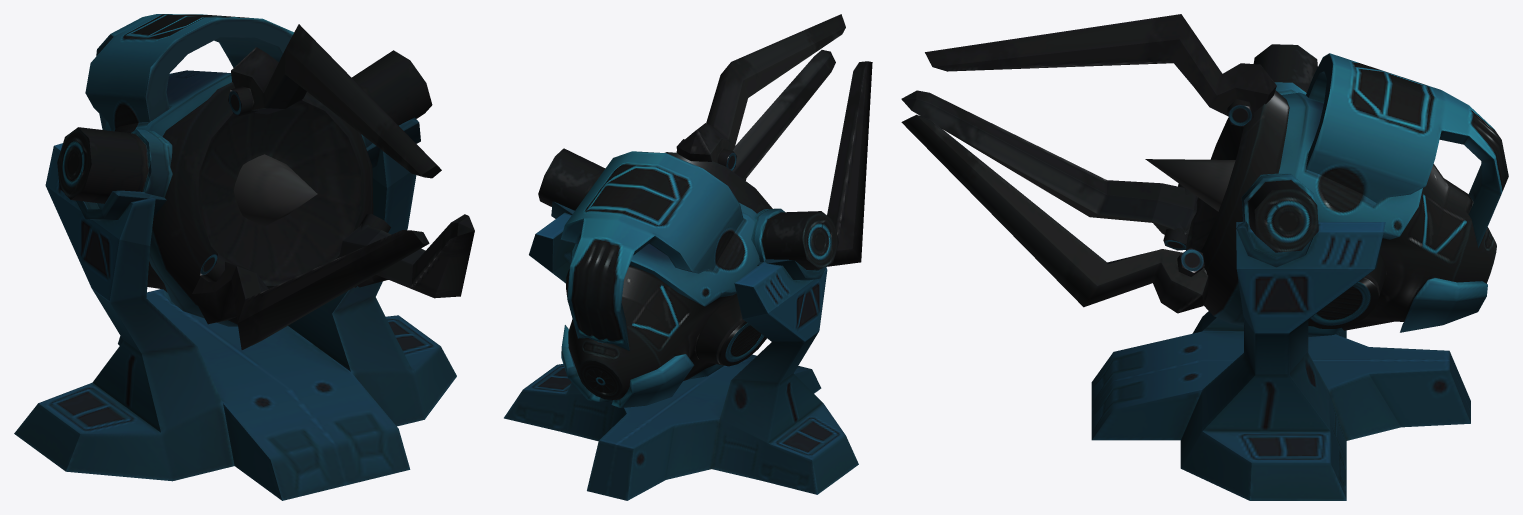
File: Cannon_06.FBX
The picture shows the model from 3 angles, left to right: view 1: azimuth 30°, elevation 25°; view 2: azimuth 150°, elevation 25°; view 3: azimuth 270°, elevation 25°; orthographic projection. The views are drawn at different scales.
Parts seen in each view (by area): view 1: Turret, Base; view 2: Turret, Base; view 3: Turret, Base.
Boxes of the visible parts, x1,y1,x2,y2 form: Turret: [57, 14, 474, 349]; Base: [14, 117, 456, 500]; Turret: [538, 14, 872, 407]; Base: [504, 201, 858, 500]; Turret: [901, 14, 1508, 336]; Base: [1091, 221, 1470, 500].
Size of the model in its own units: 128 by 133 by 184.
Materials: 1 (1 with a texture image).
